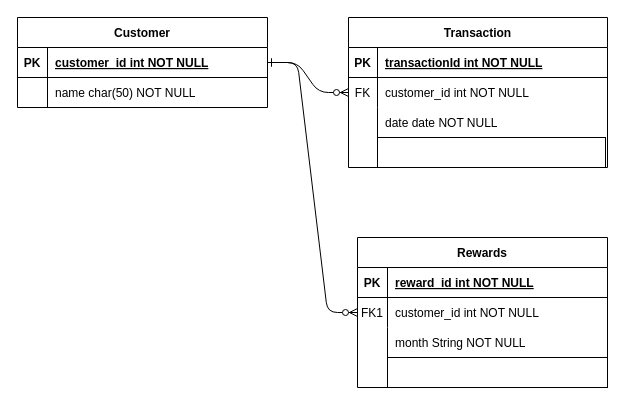
This 625x405 diagram has some shape labels left out. The shapes that lost their labels are listed below. From the top down, each one's box as (x1, y1, x2, y2) in pixels, then its label:
(376, 136, 606, 168): amount double
(386, 356, 608, 388): points double NOT NULL
